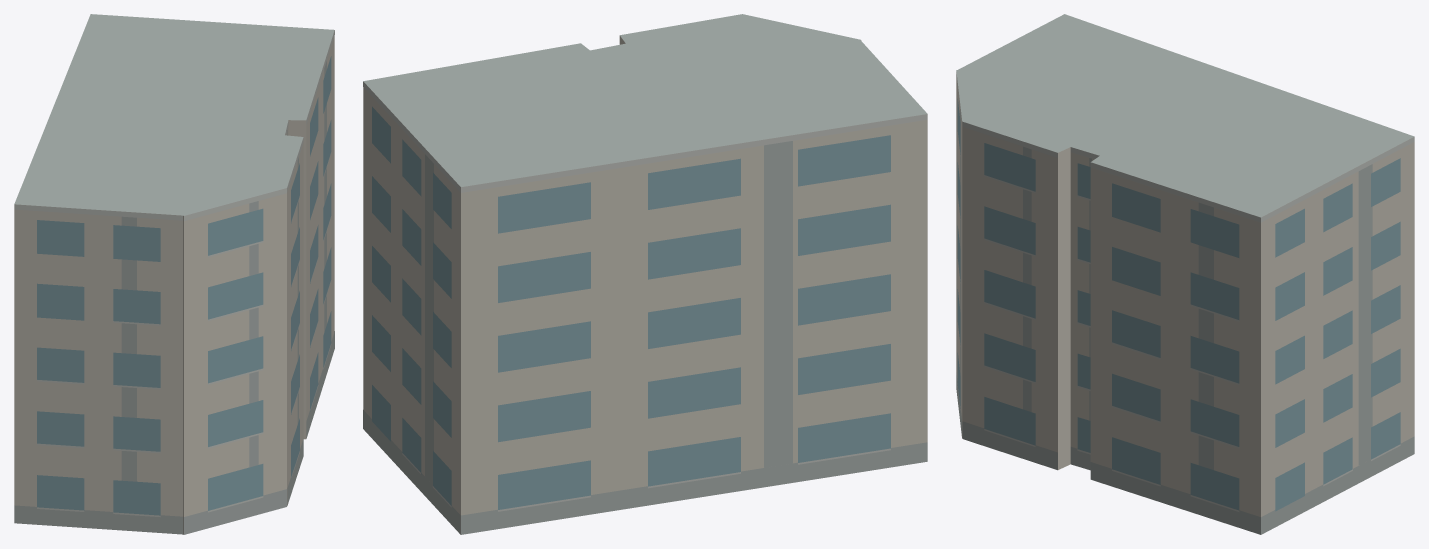
The model's file is survey-upis-32673764.glb.
3 renders of one model, left to right at view 1: azimuth 30°, elevation 25°; view 2: azimuth 150°, elevation 25°; view 3: azimuth 270°, elevation 25°, orthographic. The views are drawn at different scales.
Visible parts, largest first — view 1: survey-upis-32673764.tmp; view 2: survey-upis-32673764.tmp; view 3: survey-upis-32673764.tmp.
Part boxes in pixels (left/top/right/bottom): survey-upis-32673764.tmp: left=14, top=14, right=334, bottom=534; survey-upis-32673764.tmp: left=363, top=14, right=927, bottom=534; survey-upis-32673764.tmp: left=956, top=14, right=1414, bottom=534.
Bounding box in the file's own units: 20.5 × 14.9 × 19.52.
